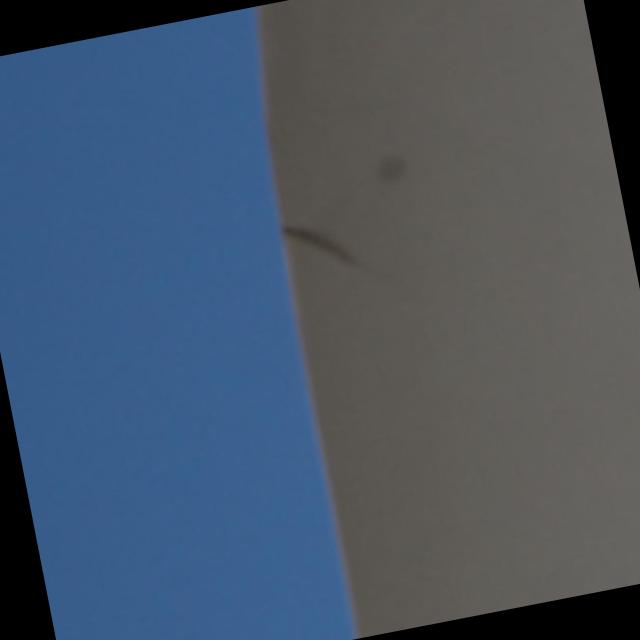crack: (289, 218, 358, 280)
